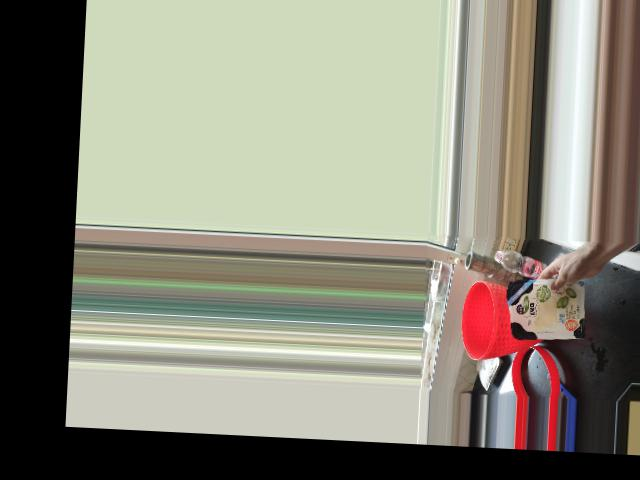cheese: (503, 262, 581, 342)
